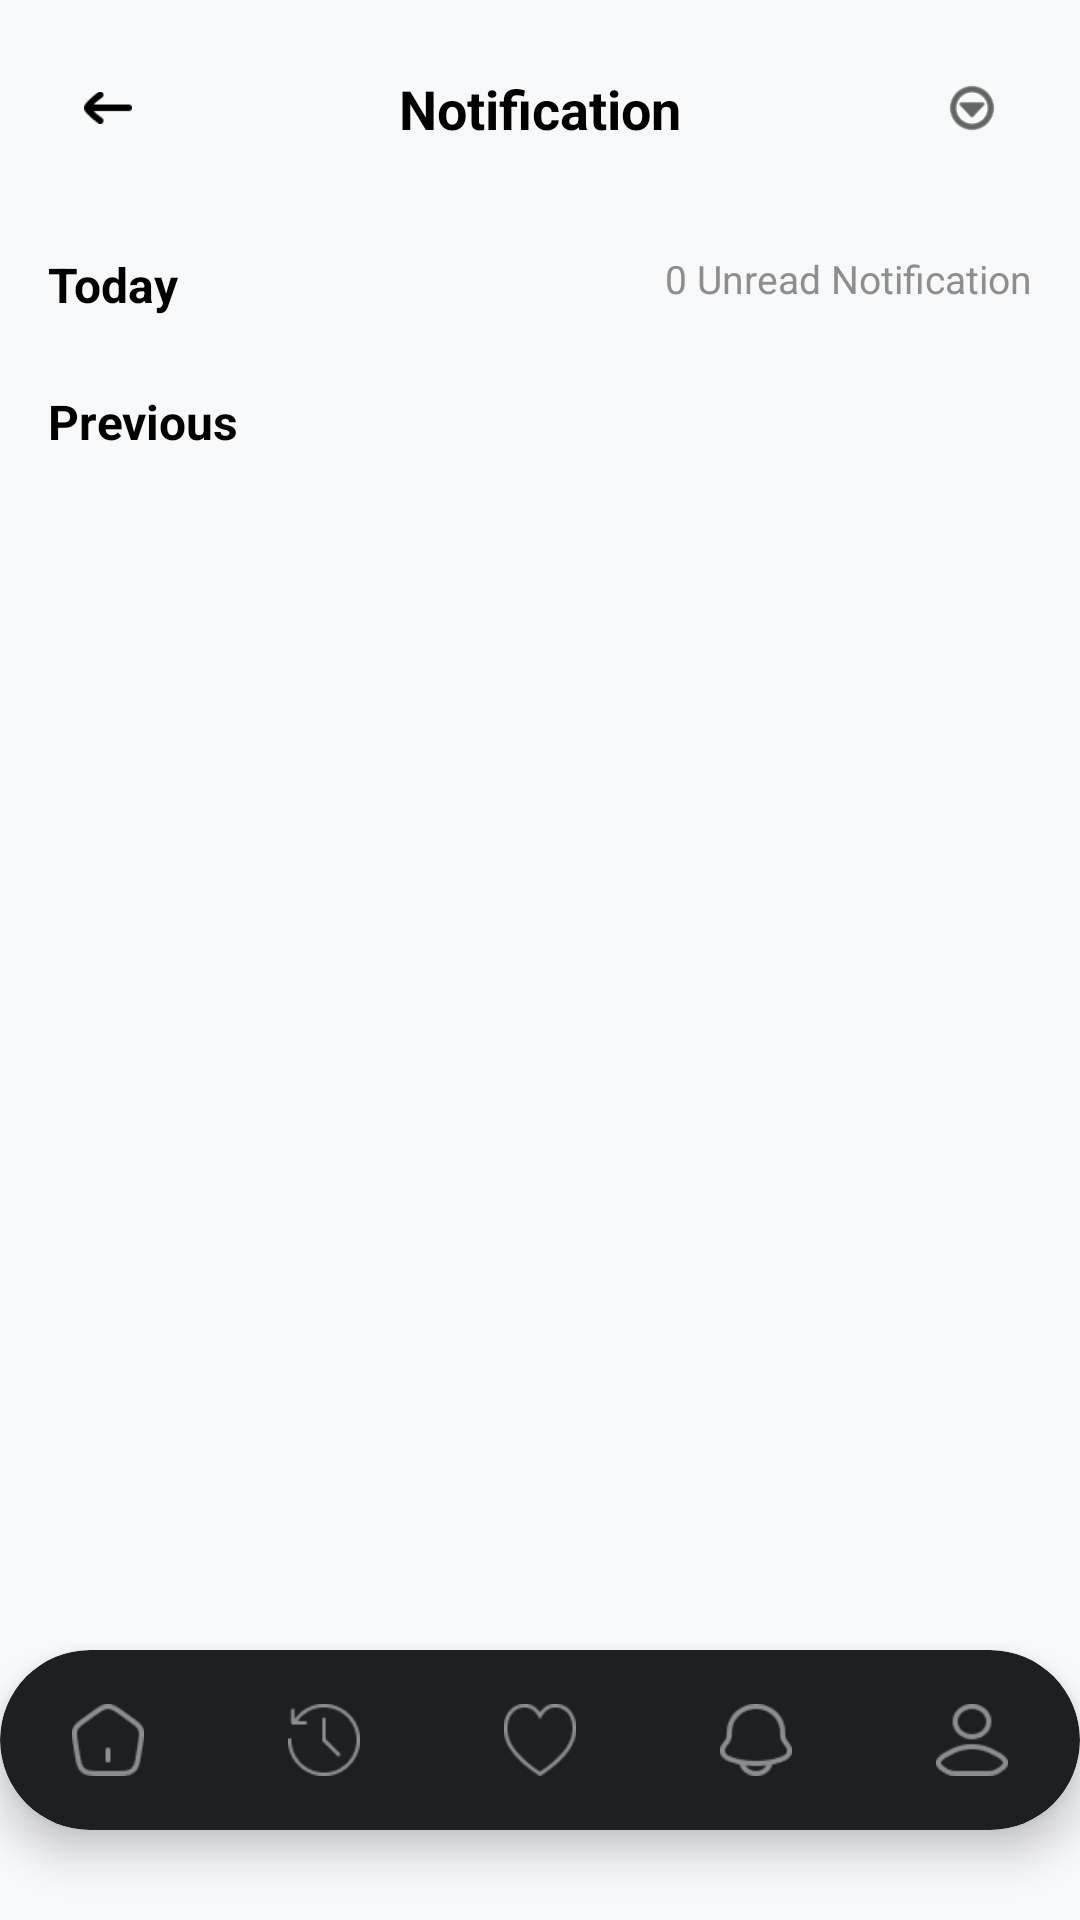

Where icons sit on this 1080w x 1920h app screen, as [x1=x1, y1=y1, x2=x2, y2=y2]:
favourite heart: [x1=504, y1=1704, x2=576, y2=1776]
history: [x1=288, y1=1704, x2=360, y2=1776]
homepage: [x1=72, y1=1704, x2=144, y2=1776]
notification: [x1=720, y1=1704, x2=792, y2=1776]
profile settings: [x1=936, y1=1704, x2=1008, y2=1776]
